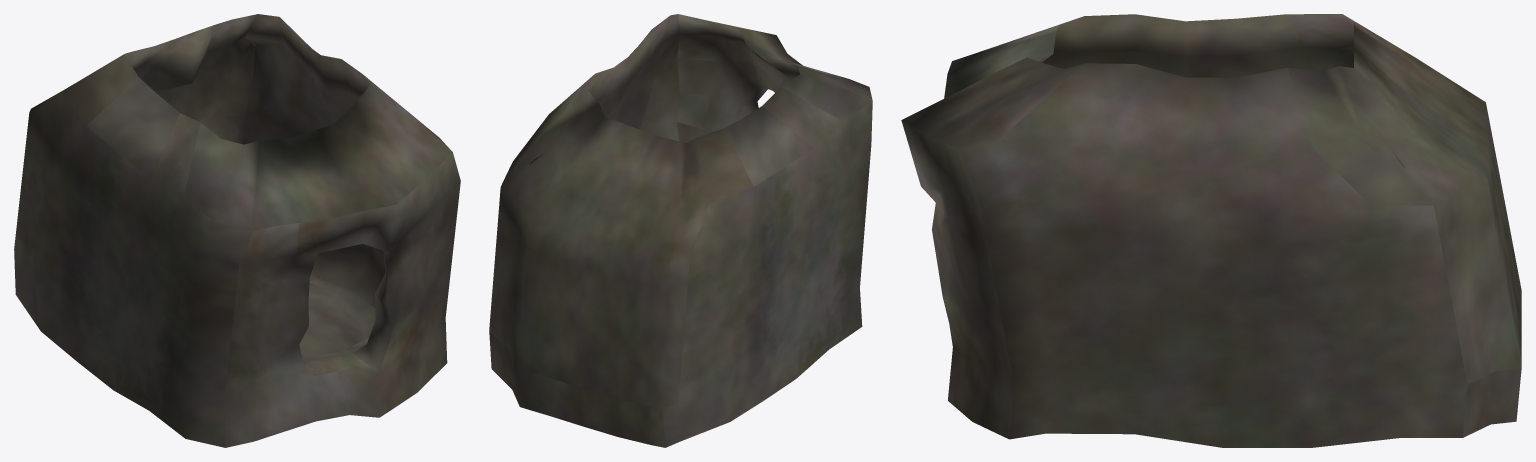
Rendered from Level2.obj.
3 views of the same model, side by side, from view 1: azimuth 30°, elevation 25°; view 2: azimuth 150°, elevation 25°; view 3: azimuth 270°, elevation 25° (orthographic). The views are drawn at different scales.
Parts seen in each view (by area): view 1: Plane; view 2: Plane; view 3: Plane.
Boxes of the visible parts, bbox=[...] form: Plane: bbox=[14, 14, 460, 447]; Plane: bbox=[489, 14, 872, 447]; Plane: bbox=[901, 14, 1521, 447].
Size of the model in its own units: 12.25 by 14.55 by 21.5.
